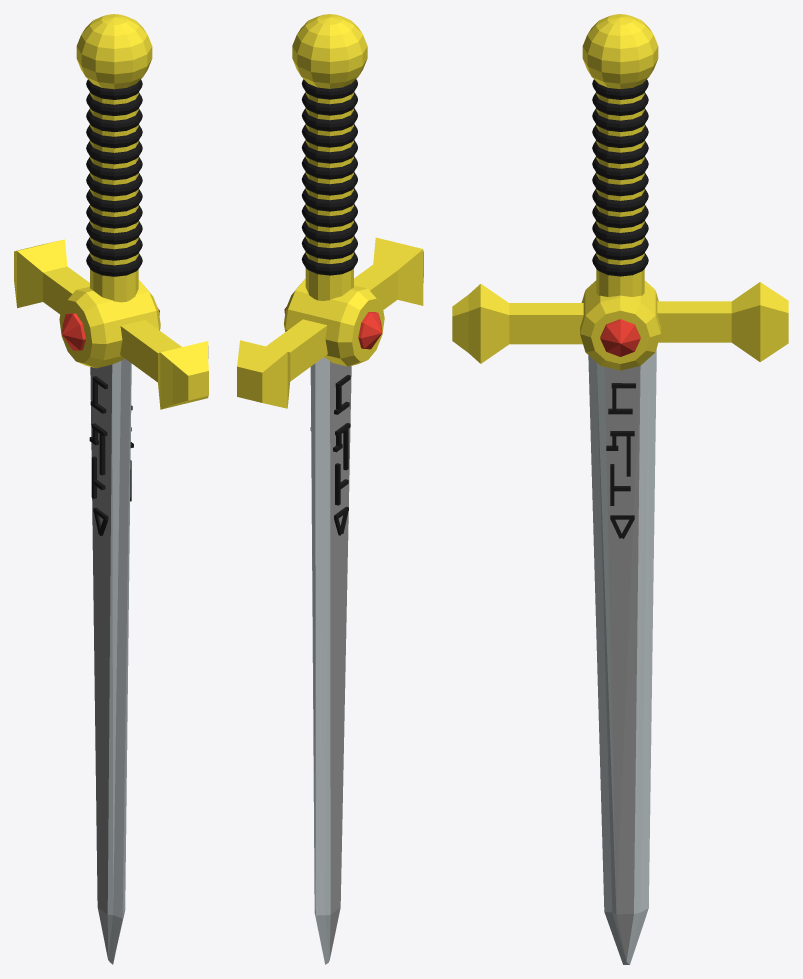
Rendered from sword-by-jarlan-perez-83D4nu1F_vU.glb.
3 renders of one model, left to right at view 1: azimuth 30°, elevation 25°; view 2: azimuth 150°, elevation 25°; view 3: azimuth 270°, elevation 25°, orthographic.
Parts seen in each view (by area): view 1: Node; view 2: Node; view 3: Node.
Part boxes in pixels (x1,y1,x2,y2): Node: (14,14,208,964); Node: (237,14,423,964); Node: (452,14,788,964).
Bounding box in the file's own units: 0.2799 × 2.58 × 0.83.
